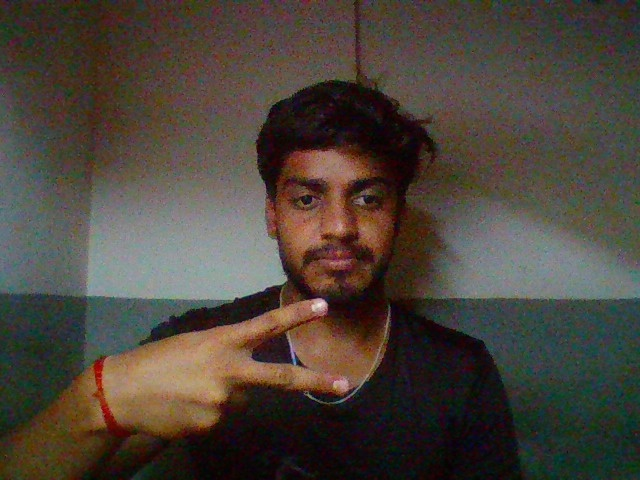F: (84, 284, 359, 443)
